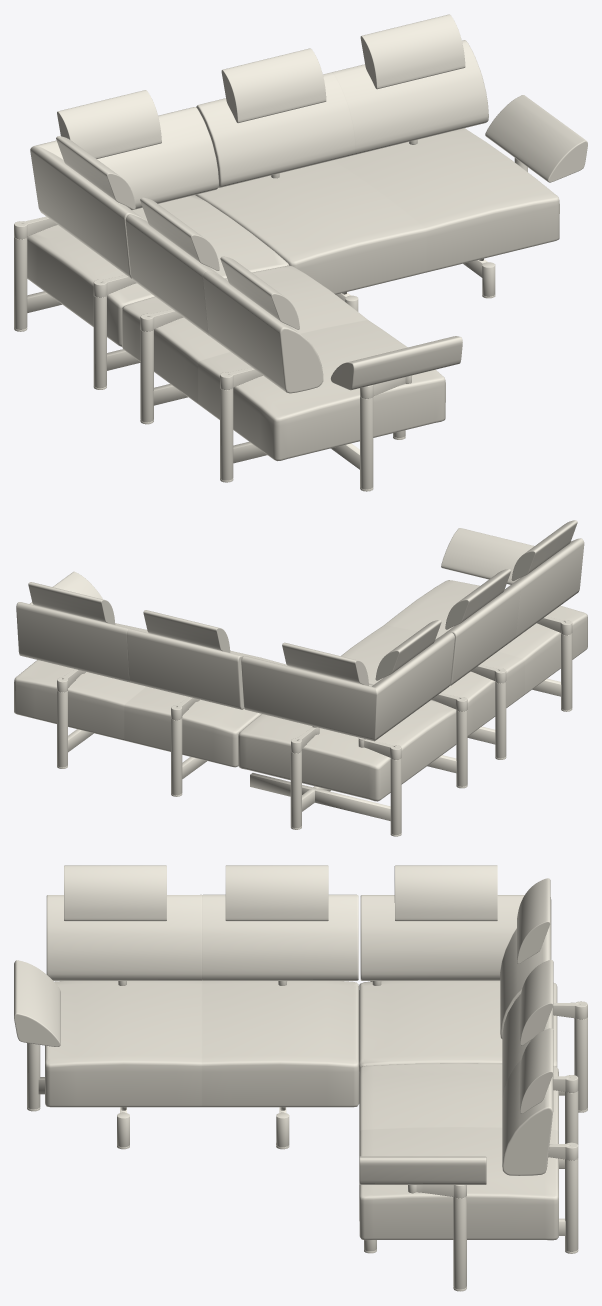
Rendered from aws_Sofa_01.DAE.
The picture shows the model from 3 angles, top to bottom: view 1: azimuth 30°, elevation 25°; view 2: azimuth 150°, elevation 25°; view 3: azimuth 270°, elevation 25°; orthographic projection. The views are drawn at different scales.
Parts seen in each view (by area): view 1: aws_Sofa_01; view 2: aws_Sofa_01; view 3: aws_Sofa_01.
Part boxes in pixels (x1,y1,x2,y2): aws_Sofa_01: (14, 14, 587, 491); aws_Sofa_01: (14, 520, 587, 836); aws_Sofa_01: (14, 865, 587, 1291).
Size of what is drawn, in the model's own units: 2414 by 2457 by 966.
1 material, 1 textured.
